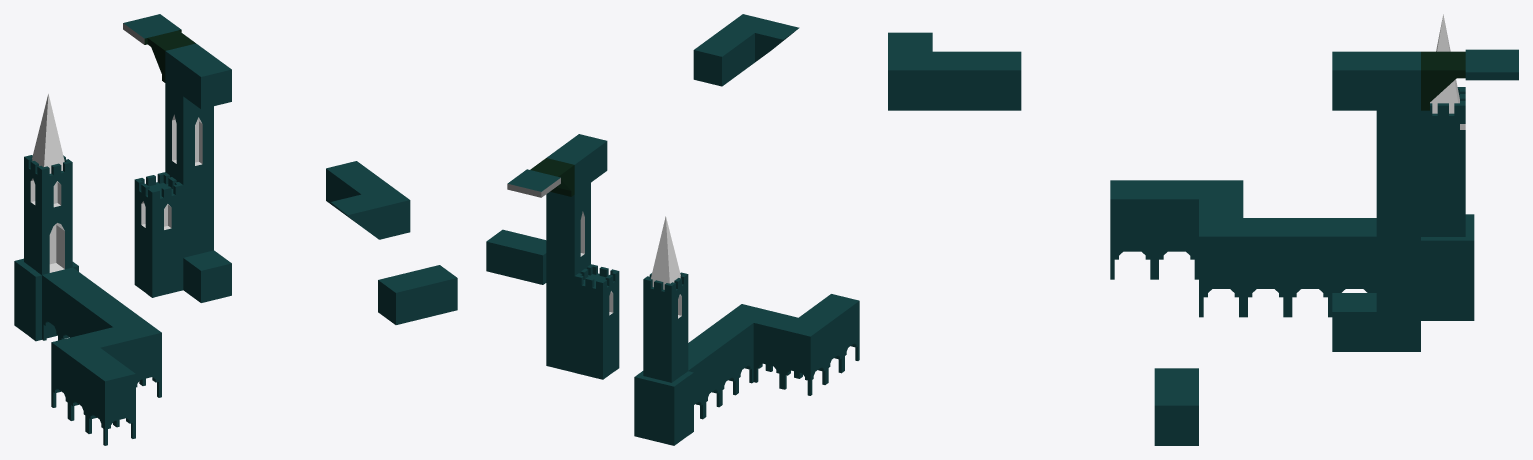
File: s2 main.FBX
3 views of the same model, side by side, from view 1: azimuth 30°, elevation 25°; view 2: azimuth 150°, elevation 25°; view 3: azimuth 270°, elevation 25° (orthographic). The views are drawn at different scales.
Visible parts, largest first — view 1: main, Group002; view 2: main, Group002; view 3: main, Group002.
Part boxes in pixels (left/top/right/bottom): main: left=14, top=14, right=457, bottom=445; Group002: left=30, top=93, right=202, bottom=272; main: left=486, top=14, right=859, bottom=445; Group002: left=580, top=211, right=681, bottom=318; main: left=888, top=32, right=1518, bottom=445; Group002: left=1430, top=14, right=1465, bottom=129.
Bounding box in the file's own units: 1200 × 801 × 1420.
